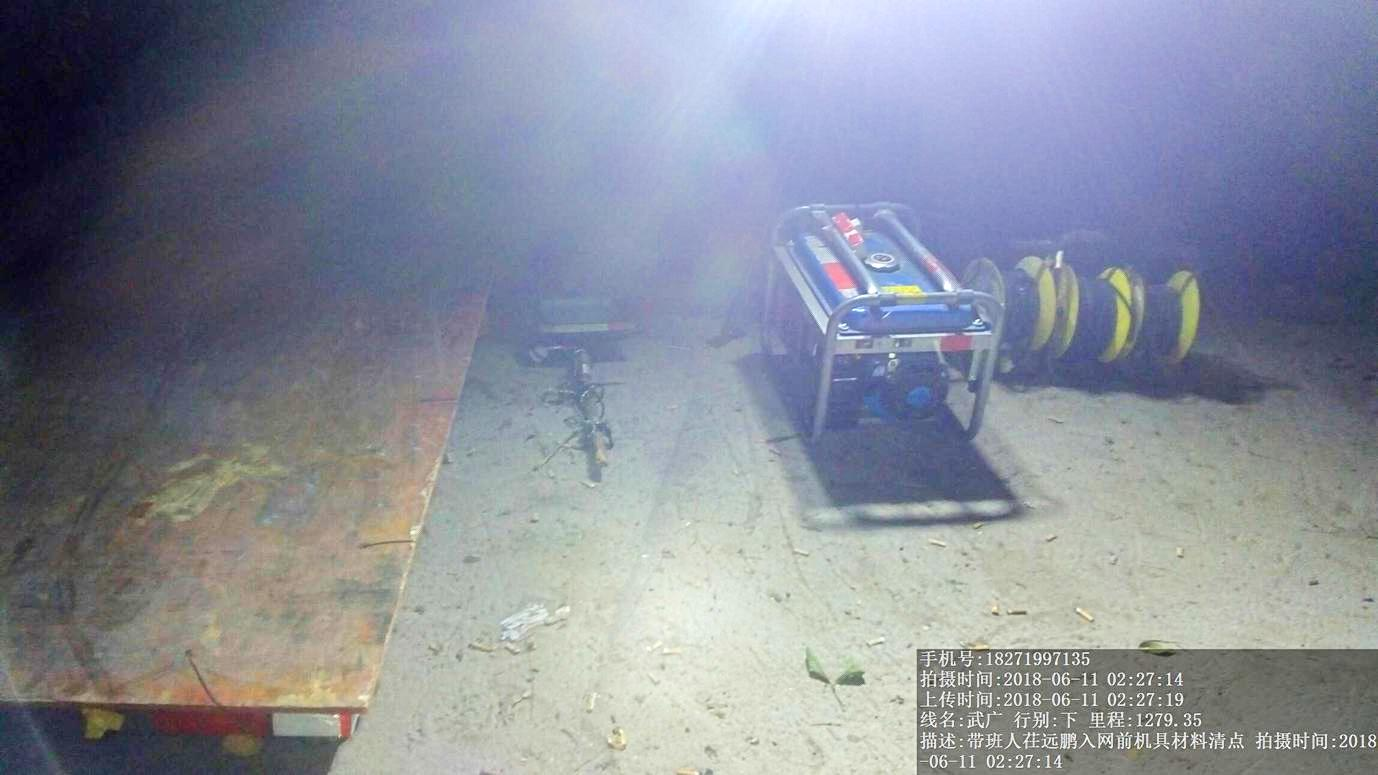DJ: (755, 192, 1007, 439)
DX: (1052, 253, 1135, 369), (983, 259, 1062, 365), (1134, 254, 1202, 369)
